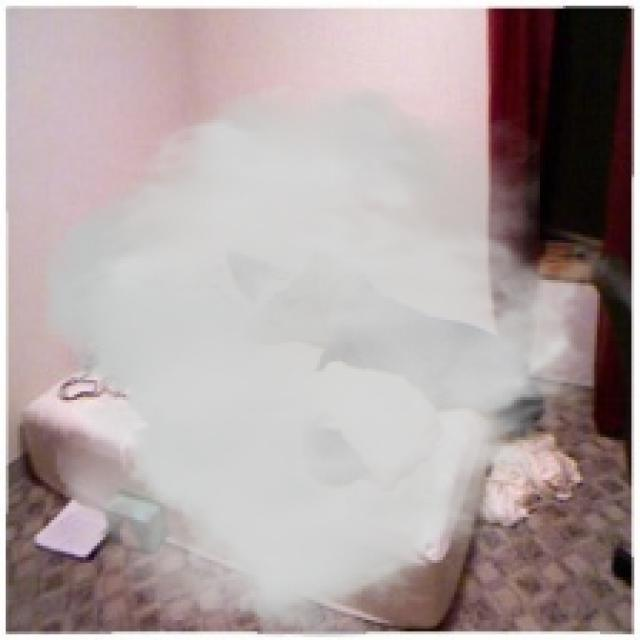Smoke: (43, 77, 612, 637)
